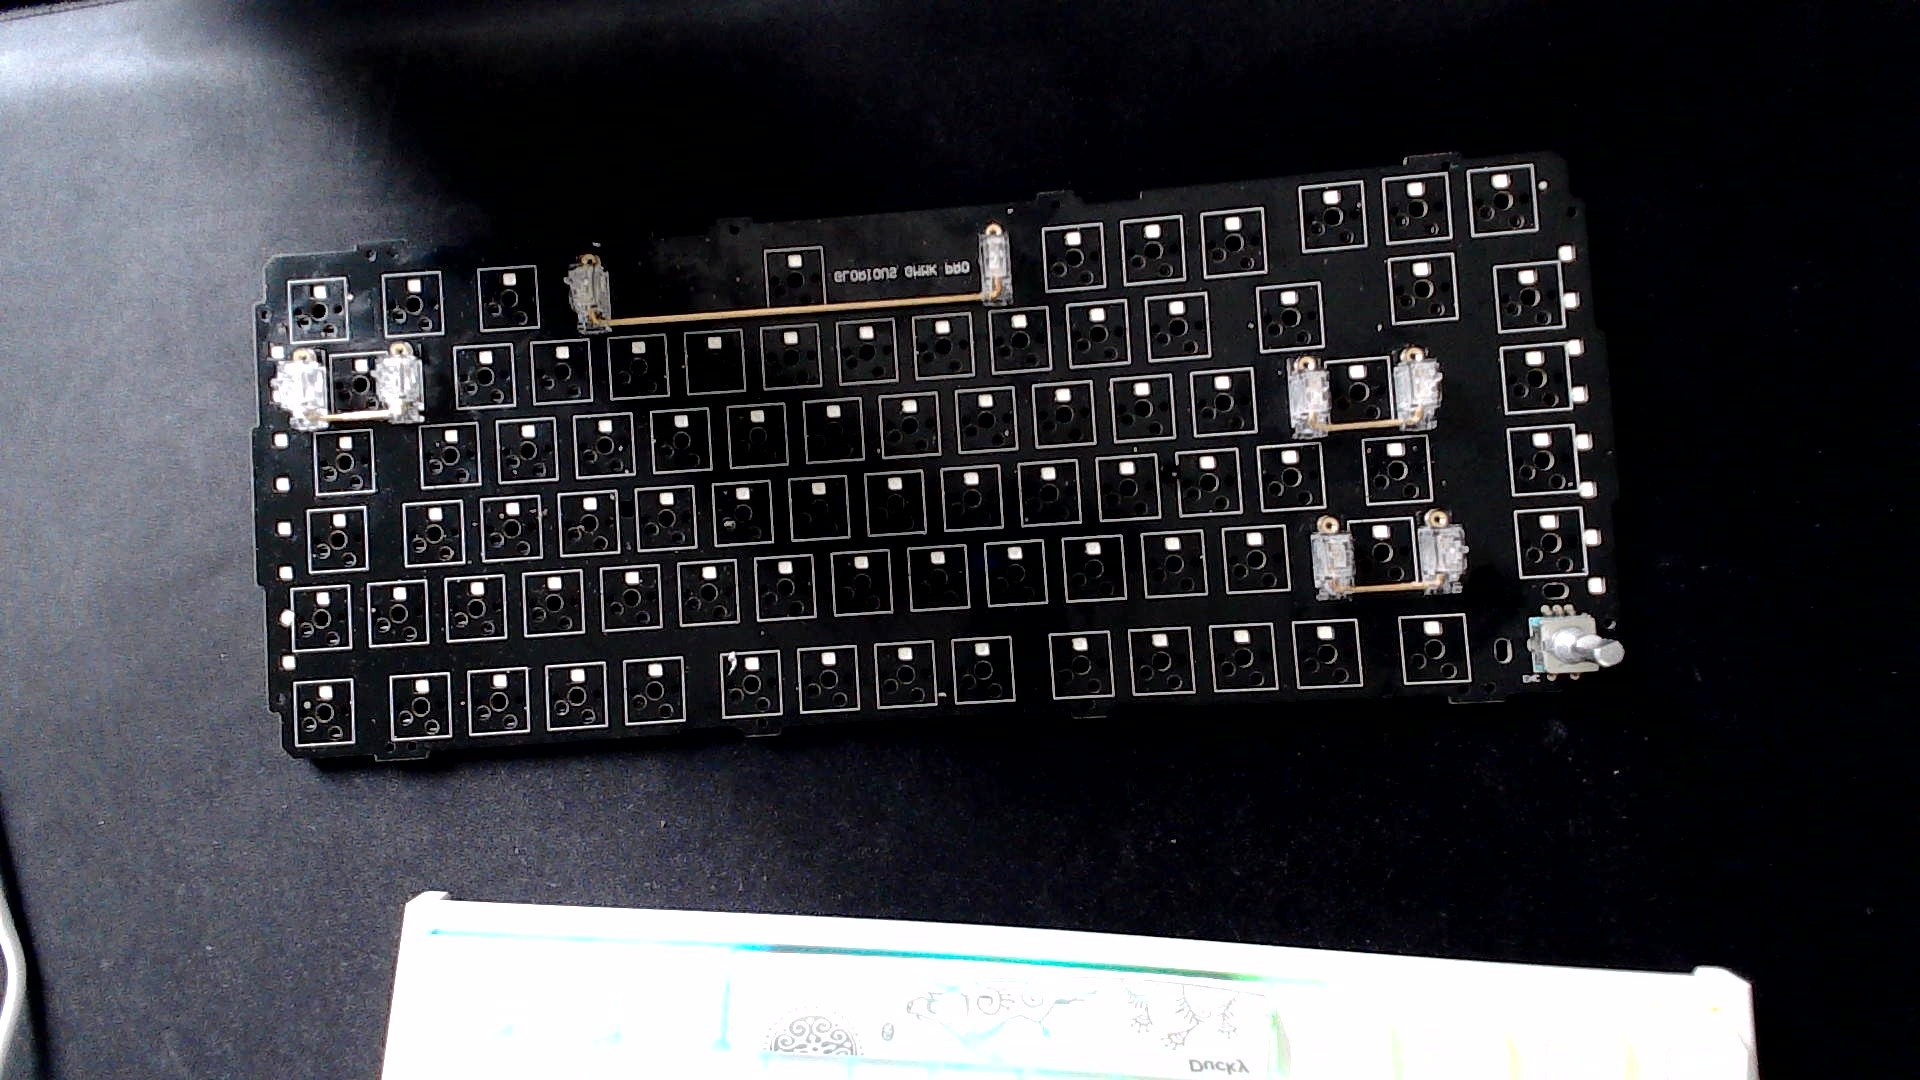pcb: (195, 103, 1695, 843)
